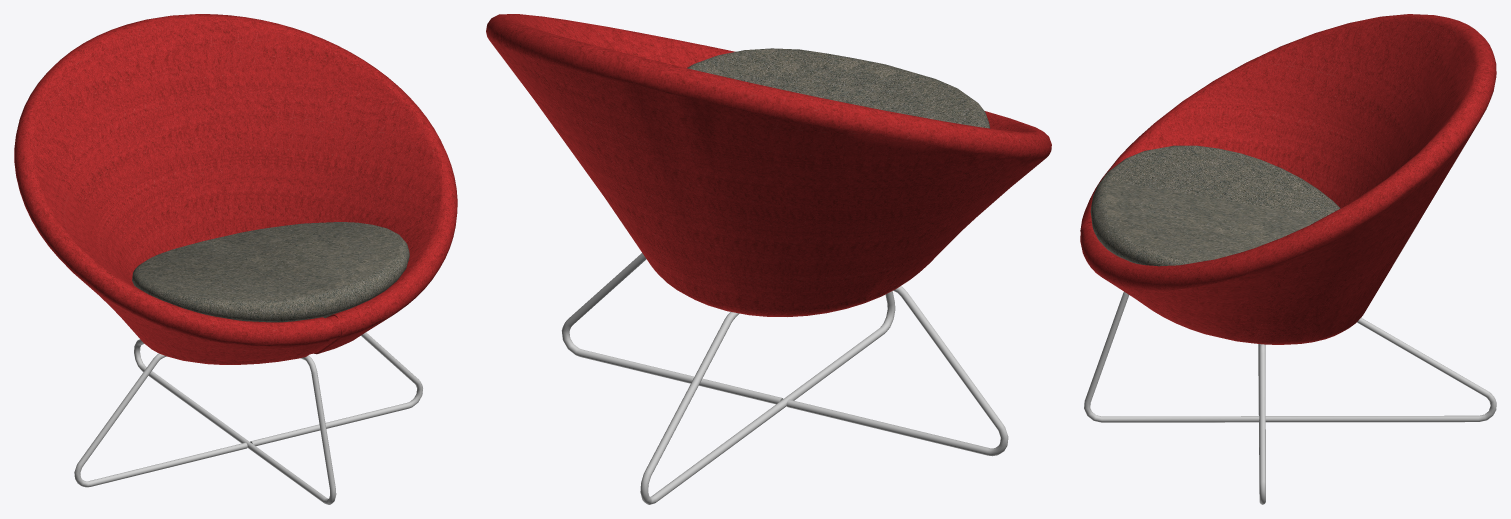
The picture shows the model from 3 angles, left to right: view 1: azimuth 30°, elevation 25°; view 2: azimuth 150°, elevation 25°; view 3: azimuth 270°, elevation 25°; orthographic projection. The views are drawn at different scales.
Visible parts, largest first — view 1: Mesh1_Conic_Seat1_Model, Mesh7_Conic_Cush1_Model, Mesh4_Conic_Fram_1_1_Model, Mesh5_Conic_Fram_1_1_Model, Mesh6_Conic_Fram_1_1_Model; view 2: Mesh1_Conic_Seat1_Model, Mesh7_Conic_Cush1_Model, Mesh4_Conic_Fram_1_1_Model, Mesh5_Conic_Fram_1_1_Model, Mesh6_Conic_Fram_1_1_Model; view 3: Mesh1_Conic_Seat1_Model, Mesh7_Conic_Cush1_Model, Mesh4_Conic_Fram_1_1_Model, Mesh6_Conic_Fram_1_1_Model.
Boxes of the visible parts, x1=… form: Mesh1_Conic_Seat1_Model: x1=14, y1=14, x2=457, y2=364; Mesh7_Conic_Cush1_Model: x1=132, y1=222, x2=409, y2=322; Mesh4_Conic_Fram_1_1_Model: x1=134, y1=339, x2=336, y2=504; Mesh5_Conic_Fram_1_1_Model: x1=74, y1=353, x2=247, y2=487; Mesh6_Conic_Fram_1_1_Model: x1=250, y1=332, x2=422, y2=446; Mesh1_Conic_Seat1_Model: x1=486, y1=14, x2=1051, y2=316; Mesh7_Conic_Cush1_Model: x1=687, y1=48, x2=990, y2=128; Mesh4_Conic_Fram_1_1_Model: x1=640, y1=291, x2=895, y2=504; Mesh5_Conic_Fram_1_1_Model: x1=786, y1=286, x2=1008, y2=456; Mesh6_Conic_Fram_1_1_Model: x1=561, y1=253, x2=782, y2=404; Mesh1_Conic_Seat1_Model: x1=1080, y1=14, x2=1496, y2=344; Mesh7_Conic_Cush1_Model: x1=1090, y1=145, x2=1340, y2=266; Mesh4_Conic_Fram_1_1_Model: x1=1084, y1=292, x2=1496, y2=422; Mesh6_Conic_Fram_1_1_Model: x1=1259, y1=344, x2=1265, y2=504.
Size of the model in its own units: 0.8985 by 0.7546 by 0.7852.
